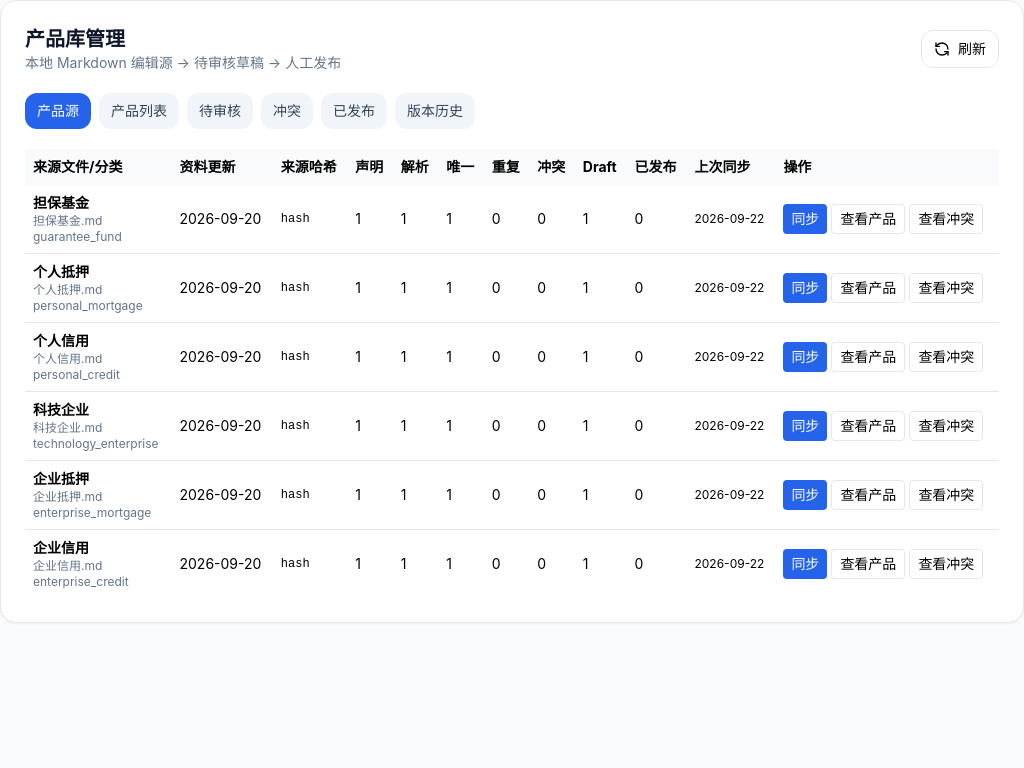
Test: LocalProductCatalogSection › opens both original sources and requires a human decision
This screenshot has width=1024, height=768.
Expected: the text "担保基金" is shown, [33,194,89,211]
Click the button "冲突": x=287, y=111 [261,93,313,129]
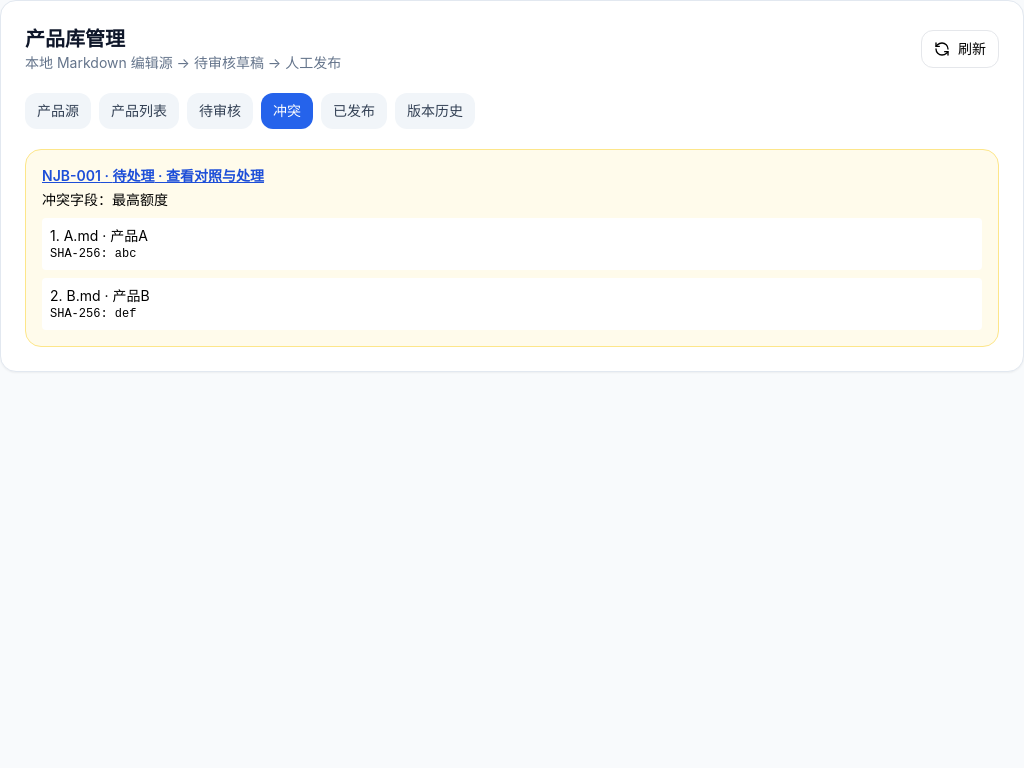
Click the button "NJB-001 · 待处理 · 查看对照与处理": x=153, y=176 [42,166,264,186]
(page scrolled)
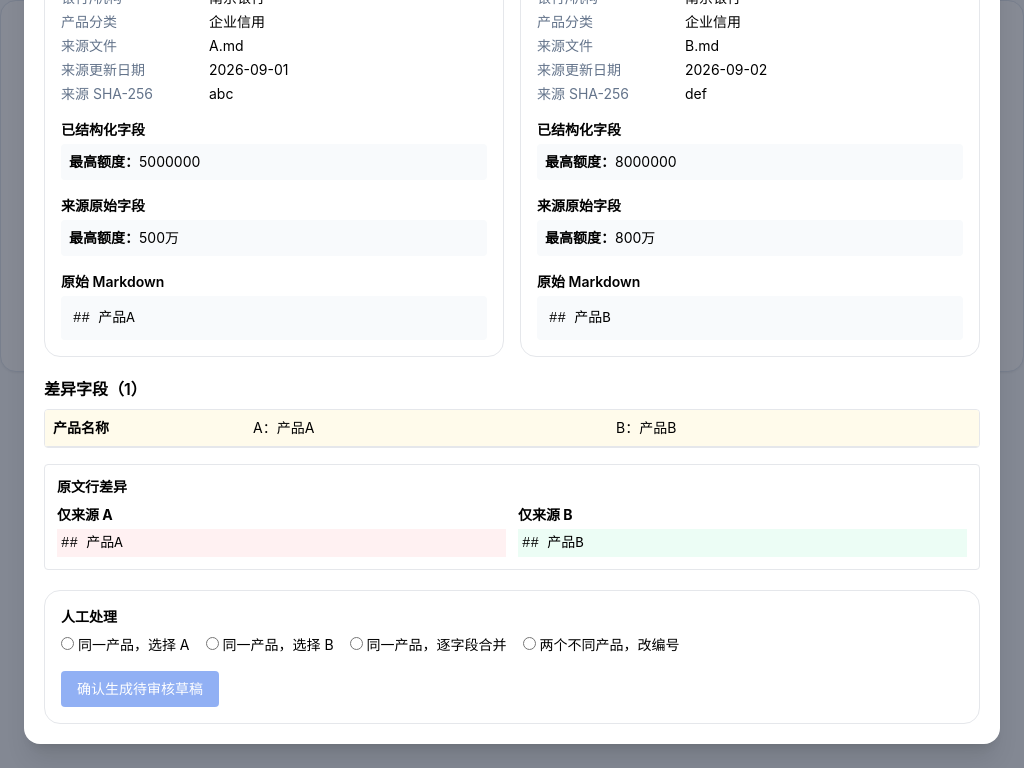
Expected: the heading "原文行差异" is shown, [57,478,127,495]
Expected: the button "确认生成待审核草稿" is disabled, [61,671,219,707]
Click the radio button labelled "同一产品，逐字段合并": x=356, y=644 [350,637,363,650]
(page scrolled)
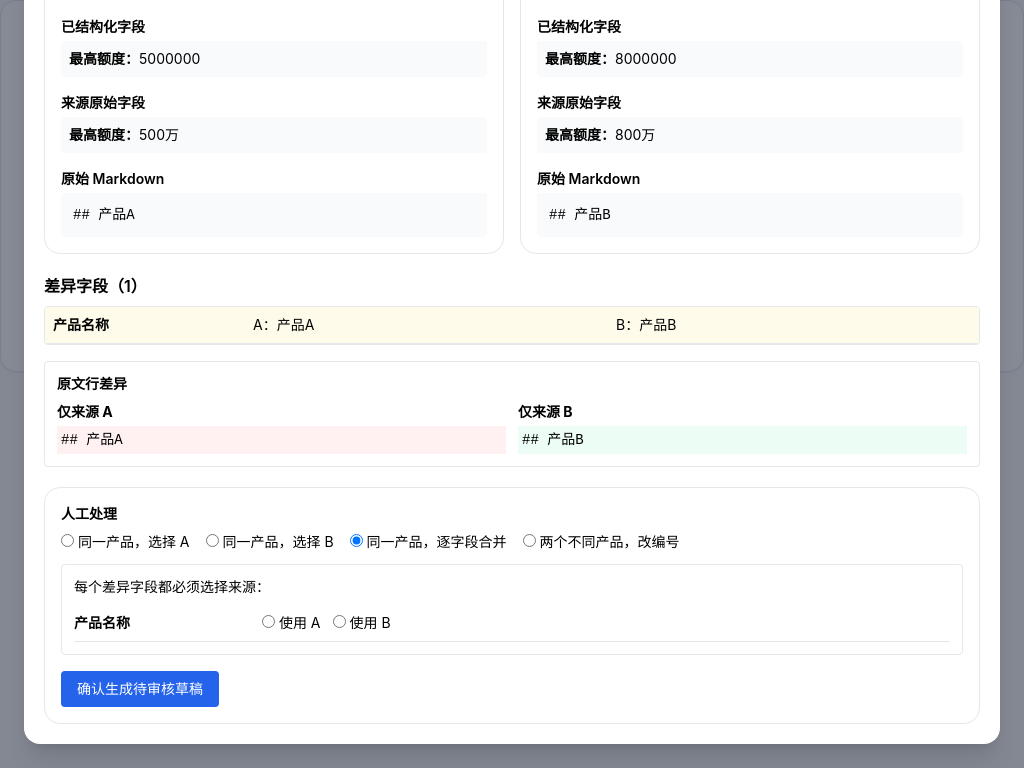
Click the button "确认生成待审核草稿": x=140, y=689 [61,671,219,707]
(page scrolled)
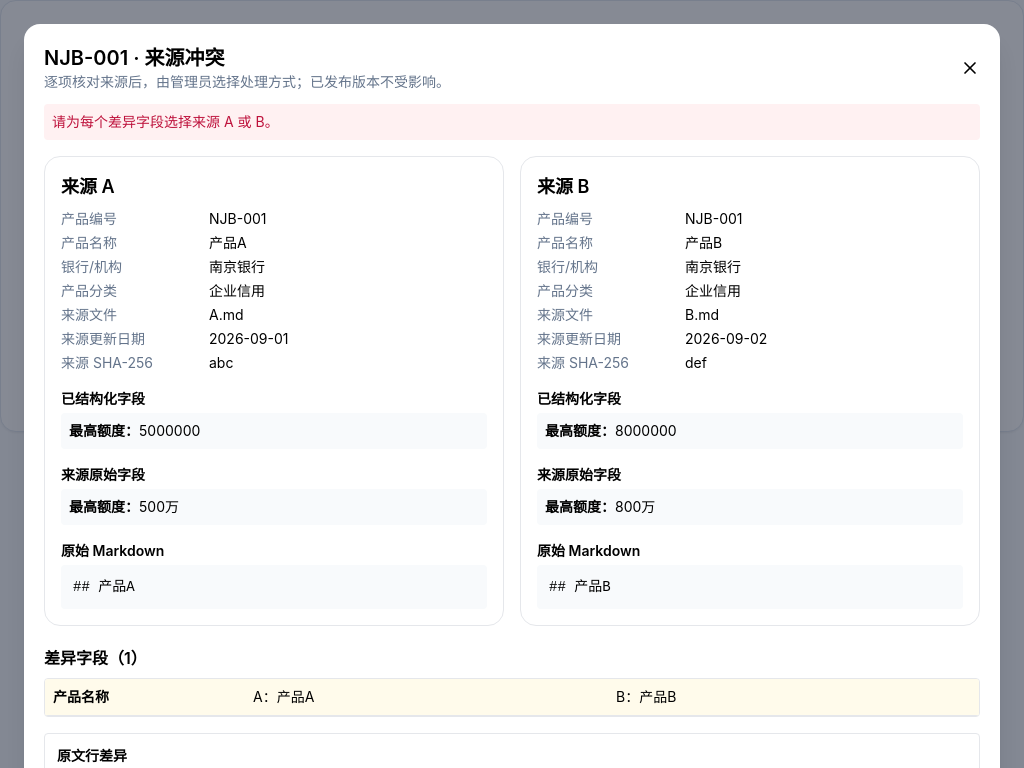
Expected: the message "请为每个差异字段选择来源 A 或 B。" below "逐项核对来源后，由管理员选择处理方式；已发布版本不受影响。" is shown, [52,113,279,130]
